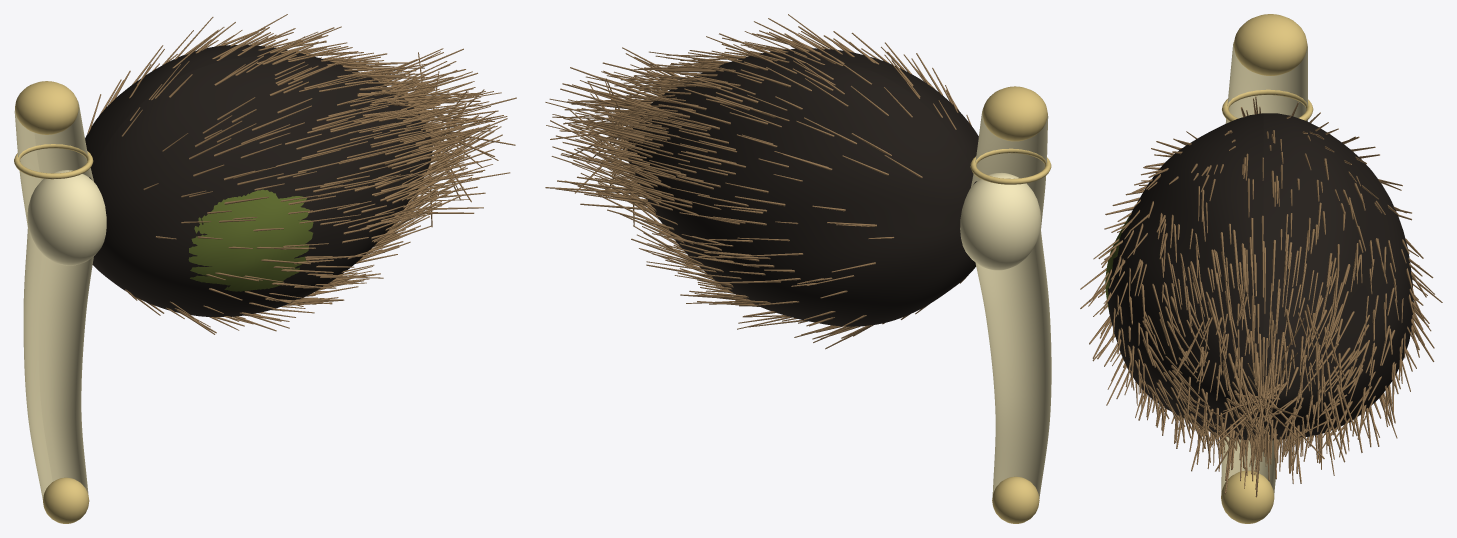
The model's file is kecambah-kelapa-sawit.glb.
The picture shows the model from 3 angles, left to right: view 1: azimuth 30°, elevation 25°; view 2: azimuth 150°, elevation 25°; view 3: azimuth 270°, elevation 25°; orthographic projection. The views are drawn at different scales.
Visible parts, largest first — view 1: shell, fibers, radicle, moss_patch, germ_collar, plumule, plumule_tip, radicle_tip, plumule_crease; view 2: shell, fibers, radicle, germ_collar, plumule, plumule_tip, radicle_tip, plumule_crease; view 3: shell, fibers, plumule_tip, plumule, radicle_tip, radicle, plumule_crease.
Boxes of the visible parts, left/top/right/bottom form: shell: left=85, top=45, right=432, bottom=316; fibers: left=87, top=14, right=516, bottom=334; radicle: left=23, top=222, right=93, bottom=499; moss_patch: left=188, top=189, right=313, bottom=291; germ_collar: left=27, top=170, right=106, bottom=265; plumule: left=14, top=100, right=94, bottom=229; plumule_tip: left=15, top=81, right=78, bottom=134; radicle_tip: left=43, top=477, right=89, bottom=523; plumule_crease: left=14, top=144, right=93, bottom=179; shell: left=627, top=48, right=978, bottom=326; fibers: left=545, top=14, right=971, bottom=349; radicle: left=975, top=226, right=1051, bottom=498; germ_collar: left=960, top=173, right=1040, bottom=270; plumule: left=970, top=108, right=1048, bottom=231; plumule_tip: left=982, top=86, right=1047, bottom=141; radicle_tip: left=992, top=476, right=1039, bottom=523; plumule_crease: left=970, top=148, right=1051, bottom=184; shell: left=1107, top=113, right=1413, bottom=440; fibers: left=1080, top=96, right=1442, bottom=497; plumule_tip: left=1233, top=14, right=1307, bottom=75; plumule: left=1225, top=41, right=1307, bottom=123; radicle_tip: left=1221, top=470, right=1274, bottom=523; radicle: left=1221, top=436, right=1278, bottom=494; plumule_crease: left=1222, top=89, right=1313, bottom=121.
Bounding box in the file's own units: 0.0368 × 0.0314 × 0.0206.
